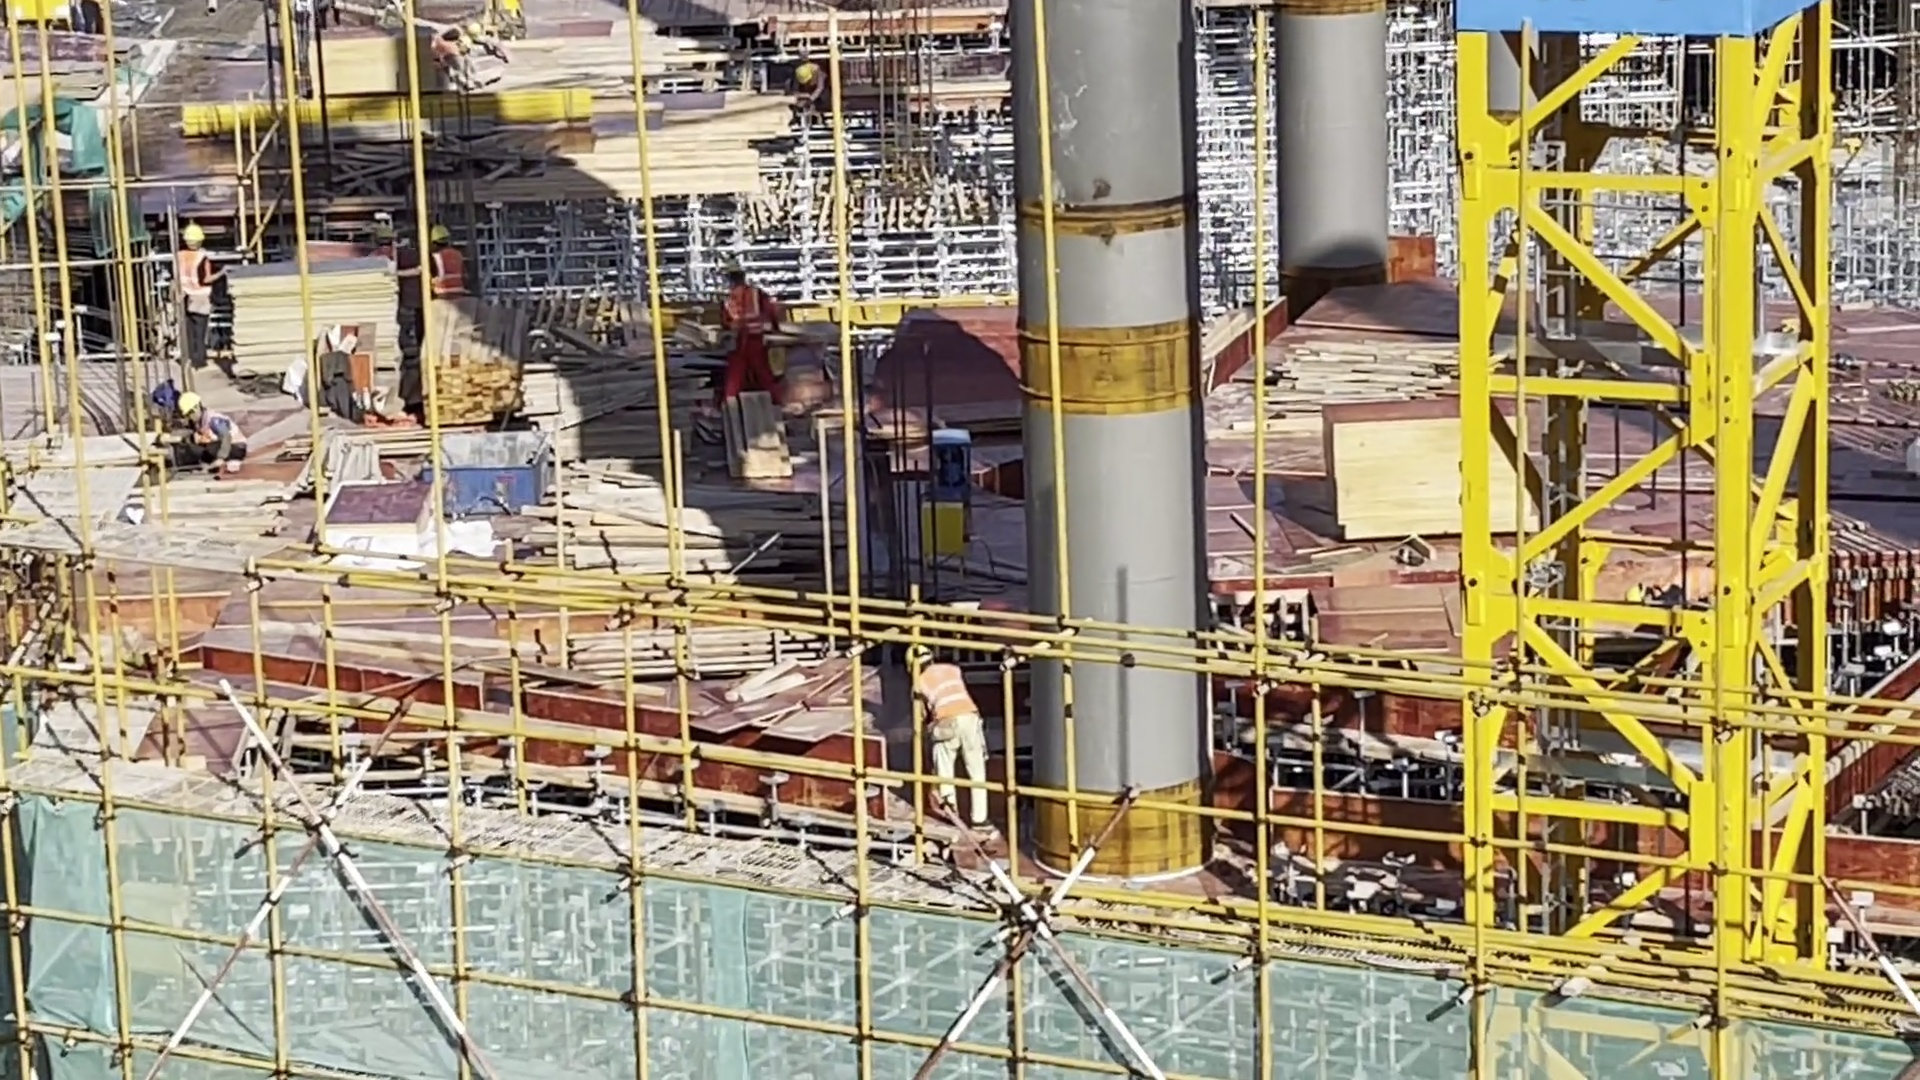helmet: (184, 396, 217, 419), (178, 222, 206, 245), (903, 644, 928, 663), (373, 223, 400, 240), (428, 225, 452, 240), (1632, 588, 1652, 605), (725, 264, 742, 282), (795, 64, 813, 80)
person: (908, 636, 1000, 830), (719, 268, 804, 453), (1619, 555, 1743, 683), (172, 208, 238, 363), (175, 393, 299, 473), (436, 210, 489, 293), (791, 56, 838, 126), (373, 224, 407, 255)
vest: (1659, 557, 1728, 617), (915, 668, 981, 718), (176, 243, 226, 303), (193, 408, 257, 452), (727, 280, 772, 342), (429, 245, 477, 292), (806, 59, 827, 89)
